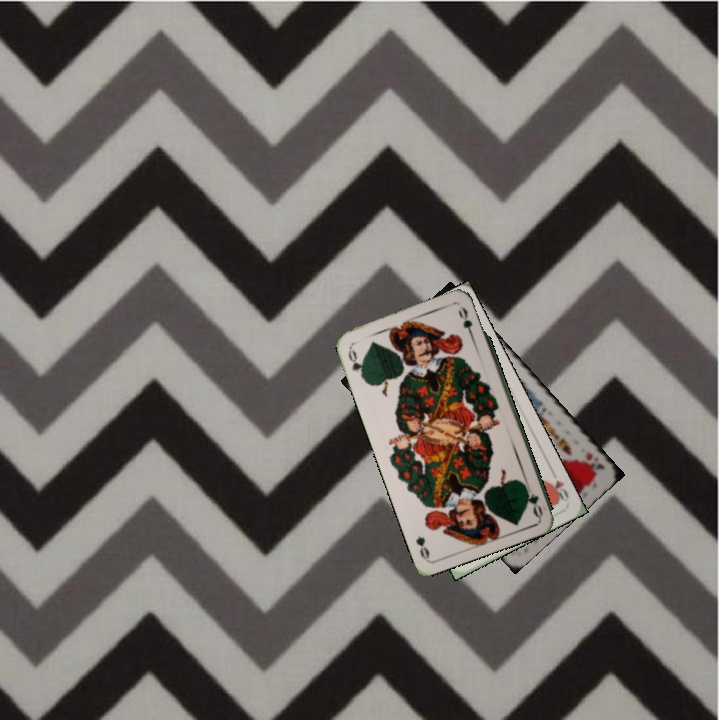GO: (519, 481, 545, 519), (344, 343, 367, 382)
HK: (579, 448, 607, 477)
HO: (544, 466, 572, 504)
